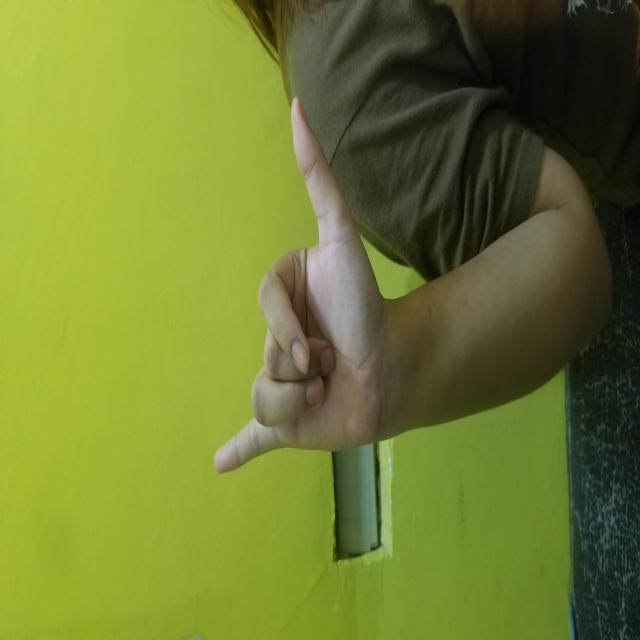Y: (164, 213, 545, 375)
